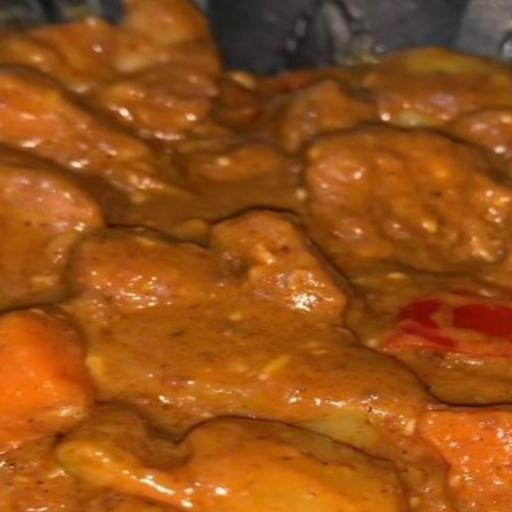pork caldereta: (3, 10, 512, 512)
